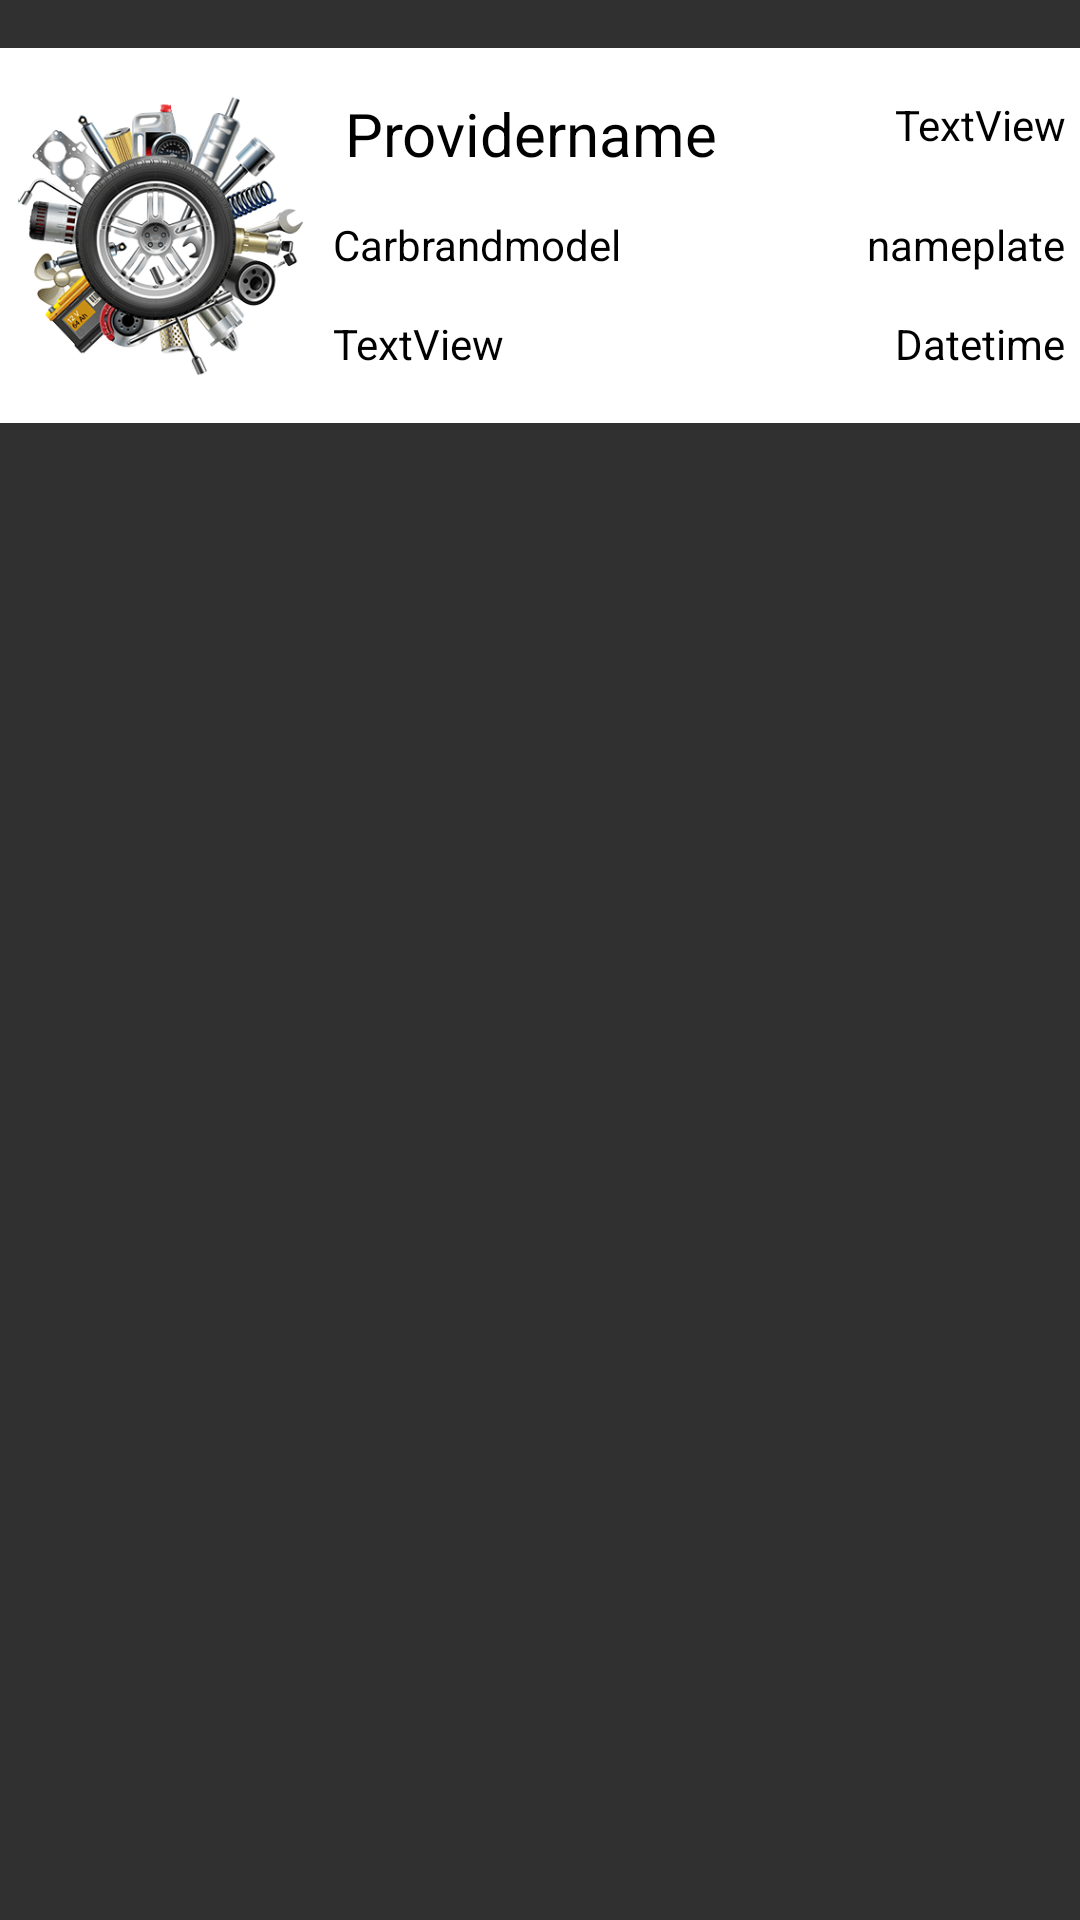

Screen size 1080x1920. Icon name, then its box in pixels as Rect(x1, y1, x2, y2):
appicon: Rect(18, 97, 303, 375)
